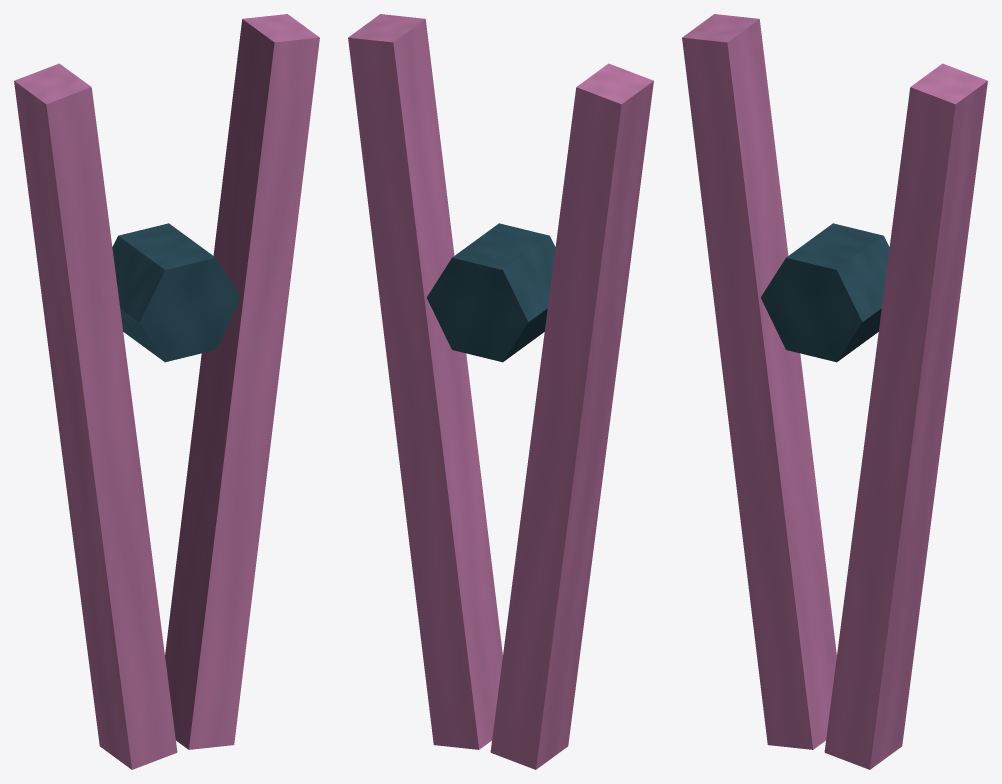
File: atlas100-s064-a05.lod1.glb
3 views of the same model, side by side, from view 1: azimuth 30°, elevation 25°; view 2: azimuth 150°, elevation 25°; view 3: azimuth 330°, elevation 25° (orthographic).
Visible parts, largest first — view 1: atlas100-s064-a05:part-001, atlas100-s064-a05:part-000, atlas100-s064-a05:part-002; view 2: atlas100-s064-a05:part-001, atlas100-s064-a05:part-000, atlas100-s064-a05:part-002; view 3: atlas100-s064-a05:part-000, atlas100-s064-a05:part-001, atlas100-s064-a05:part-002.
Boxes of the visible parts, box(x1,y1,x2,y2) form: atlas100-s064-a05:part-001: box(165, 14, 319, 749); atlas100-s064-a05:part-000: box(14, 63, 177, 769); atlas100-s064-a05:part-002: box(112, 223, 241, 362); atlas100-s064-a05:part-001: box(348, 14, 502, 749); atlas100-s064-a05:part-000: box(490, 63, 653, 769); atlas100-s064-a05:part-002: box(426, 223, 555, 362); atlas100-s064-a05:part-000: box(682, 14, 836, 749); atlas100-s064-a05:part-001: box(824, 63, 987, 769); atlas100-s064-a05:part-002: box(760, 223, 889, 362).
Bounding box in the file's own units: 0.2936 × 0.7102 × 0.0874.
2 materials, 2 textured.
